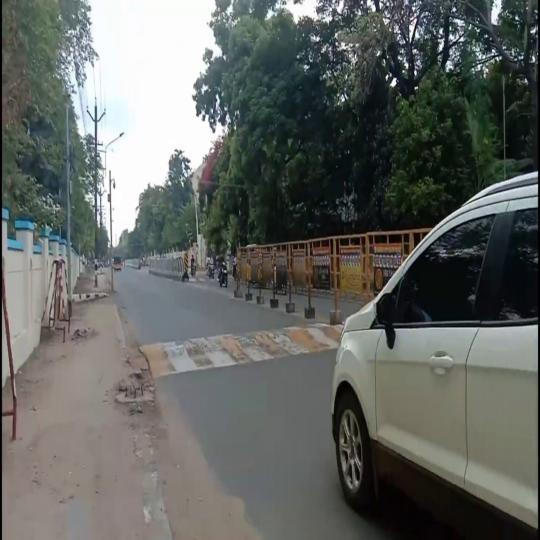Speed Bump: (138, 324, 337, 378)
